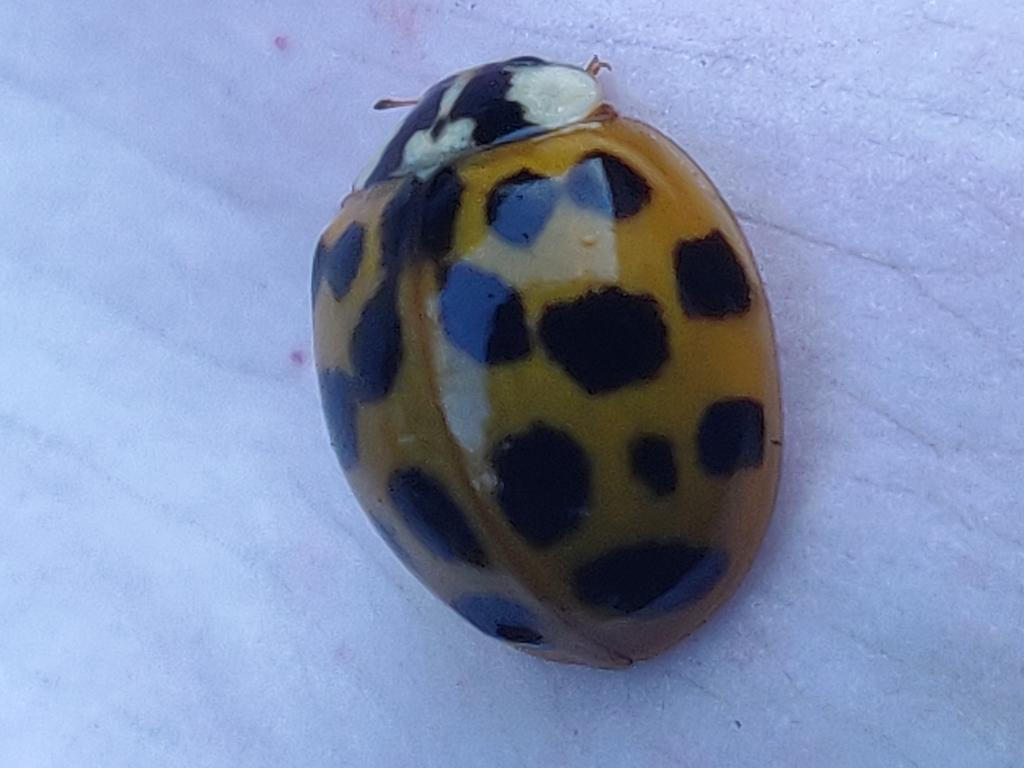ladybug: (309, 51, 791, 675)
